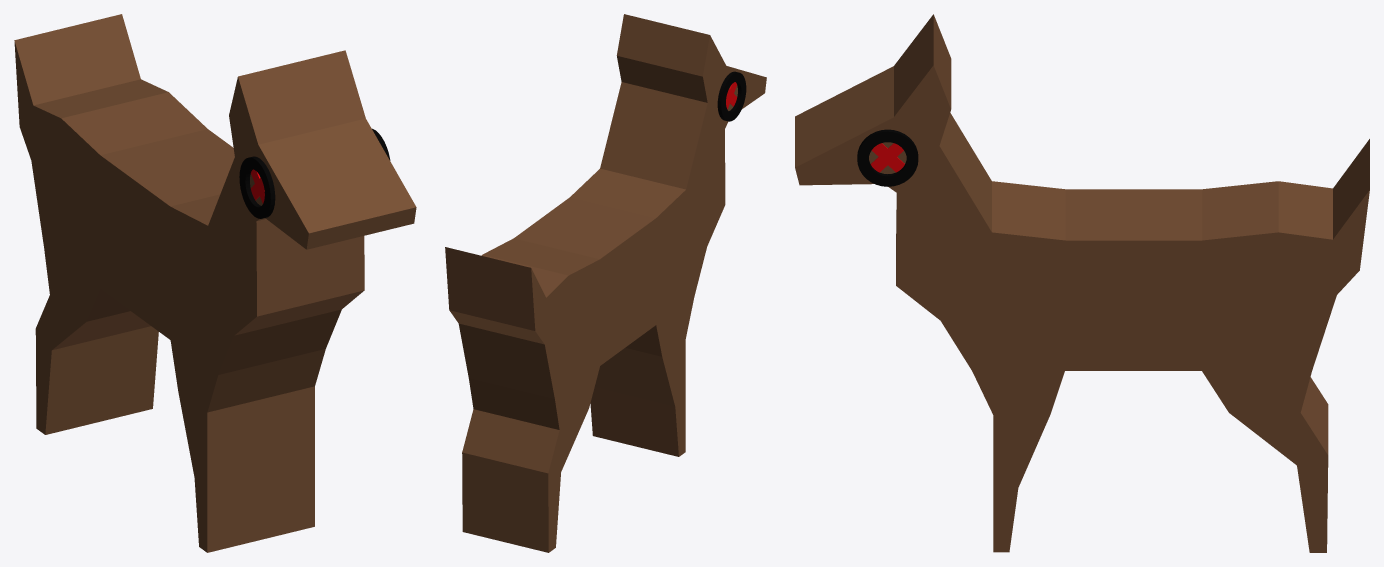
File: o-eye'd deer.gltf
3 renders of one model, left to right at view 1: azimuth 30°, elevation 25°; view 2: azimuth 150°, elevation 25°; view 3: azimuth 270°, elevation 25°, orthographic. The views are drawn at different scales.
Parts seen in each view (by area): view 1: Cube, Cylinder.001; view 2: Cube, Cylinder.001; view 3: Cube, Cylinder, Cube.001.
Boxes of the visible parts, bbox=[...] form: Cube: bbox=[14, 14, 416, 552]; Cylinder.001: bbox=[239, 156, 275, 218]; Cube: bbox=[445, 14, 766, 552]; Cylinder.001: bbox=[717, 71, 746, 121]; Cube: bbox=[795, 14, 1369, 552]; Cylinder: bbox=[857, 129, 918, 186]; Cube.001: bbox=[870, 143, 904, 172].
Size of the model in its own units: 1.56 by 6.16 by 6.58.
